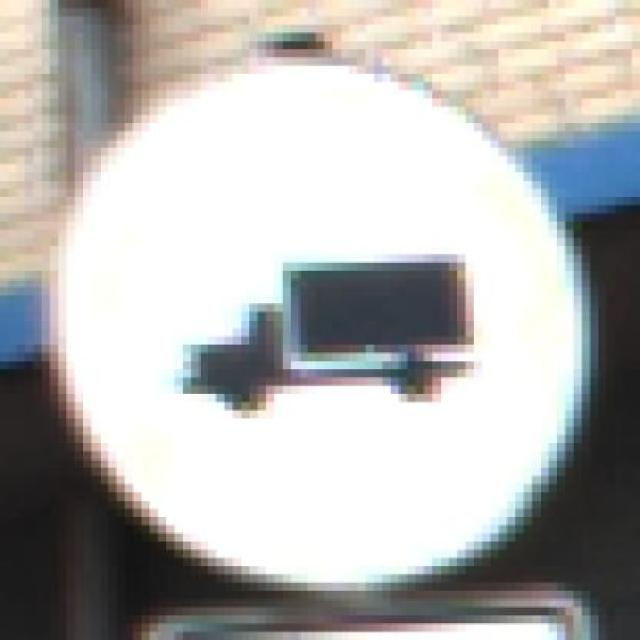Truck traffic is prohibited: (40, 48, 606, 589)
